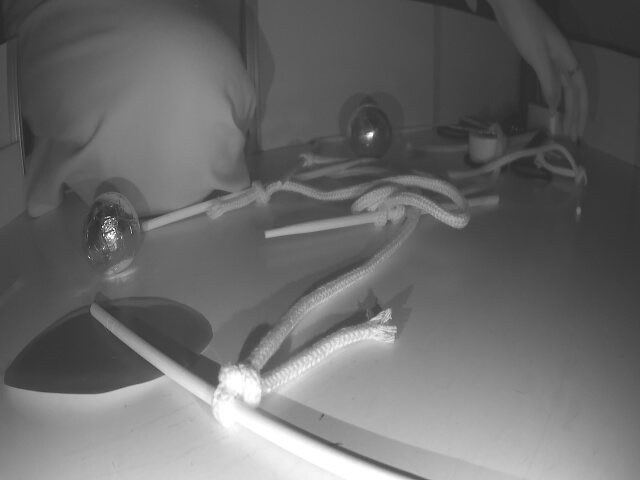Live: (88, 197, 137, 273), (347, 103, 392, 160)
Point: (0, 144, 20, 229)
